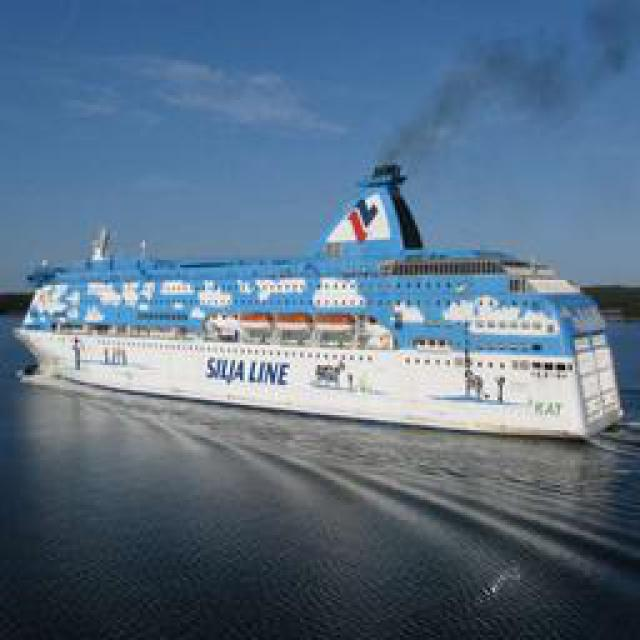Ship: (32, 158, 625, 466)
